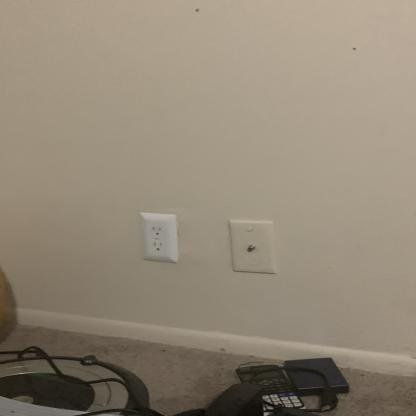OUTLET: (141, 212, 178, 262)
